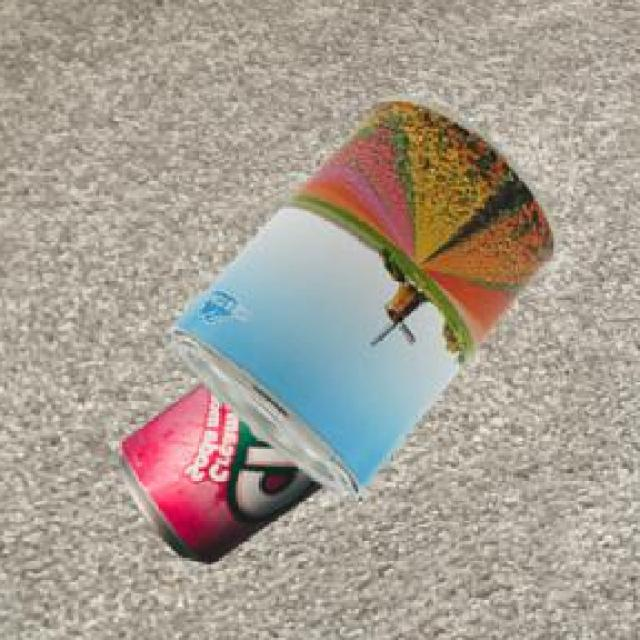logam: (168, 92, 561, 497), (123, 381, 328, 561)
